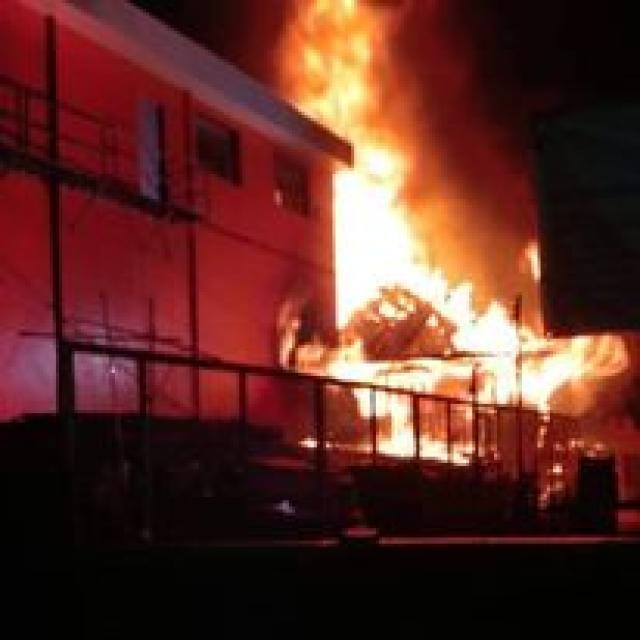Fire: (280, 2, 544, 446)
